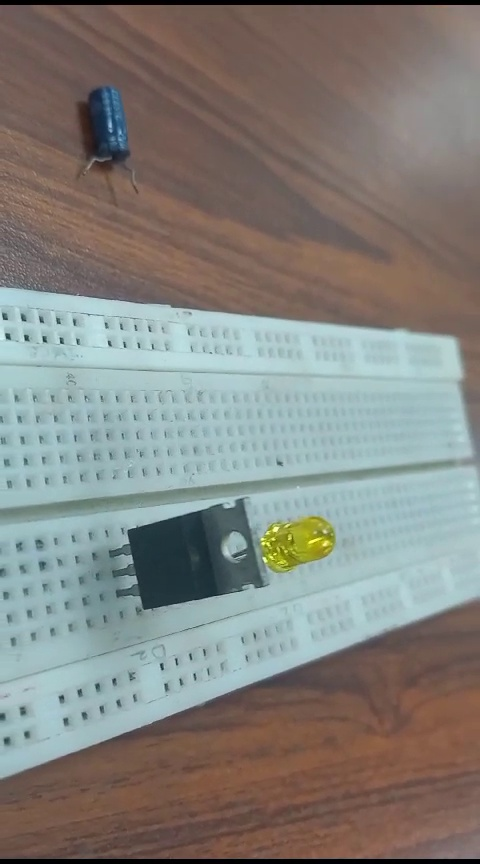LED: (258, 511, 334, 572)
voltage regulator: (103, 495, 270, 615)
